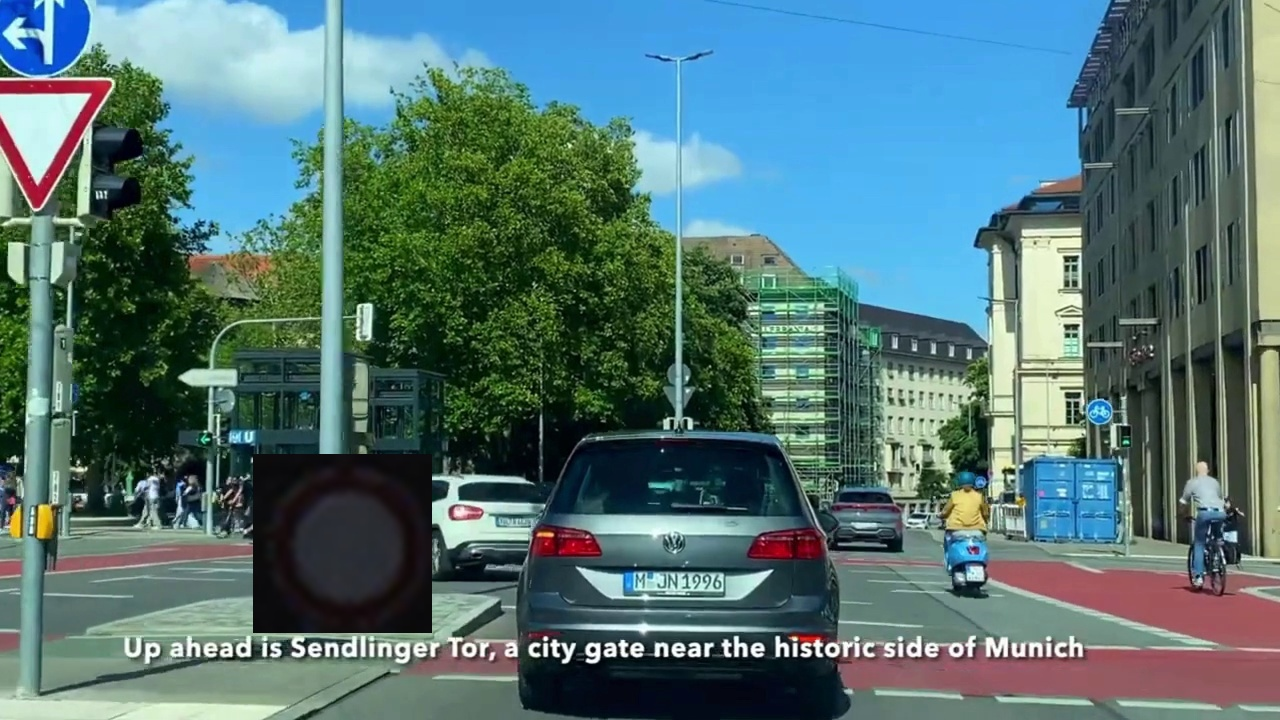No vehicles: (253, 454, 432, 633)
